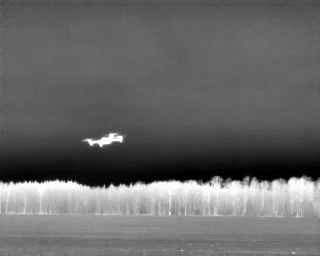DRONE: (77, 127, 132, 153)
